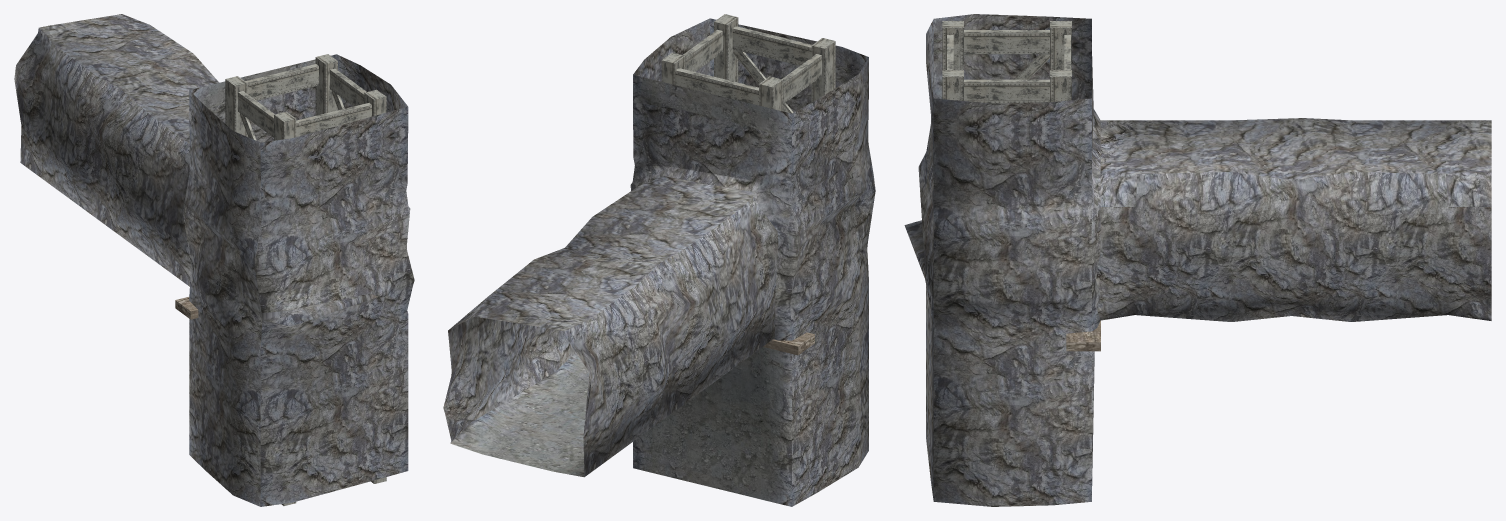
The model's file is Mine_Elevator.fbx.
3 renders of one model, left to right at view 1: azimuth 30°, elevation 25°; view 2: azimuth 150°, elevation 25°; view 3: azimuth 270°, elevation 25°, orthographic. The views are drawn at different scales.
Parts seen in each view (by area): view 1: Mine_11, MetalBeams; view 2: Mine_11, MetalBeams, WoodRough; view 3: Mine_11, MetalBeams, WoodRough.
Part boxes in pixels (bbox=[...]): Mine_11: bbox=[14, 14, 414, 506]; MetalBeams: bbox=[225, 54, 386, 505]; Mine_11: bbox=[443, 18, 875, 506]; MetalBeams: bbox=[661, 14, 835, 113]; WoodRough: bbox=[763, 332, 814, 355]; Mine_11: bbox=[904, 14, 1491, 506]; MetalBeams: bbox=[942, 21, 1071, 103]; WoodRough: bbox=[1066, 320, 1100, 351].
Bounding box in the file's own units: 479 × 972 × 1216.
